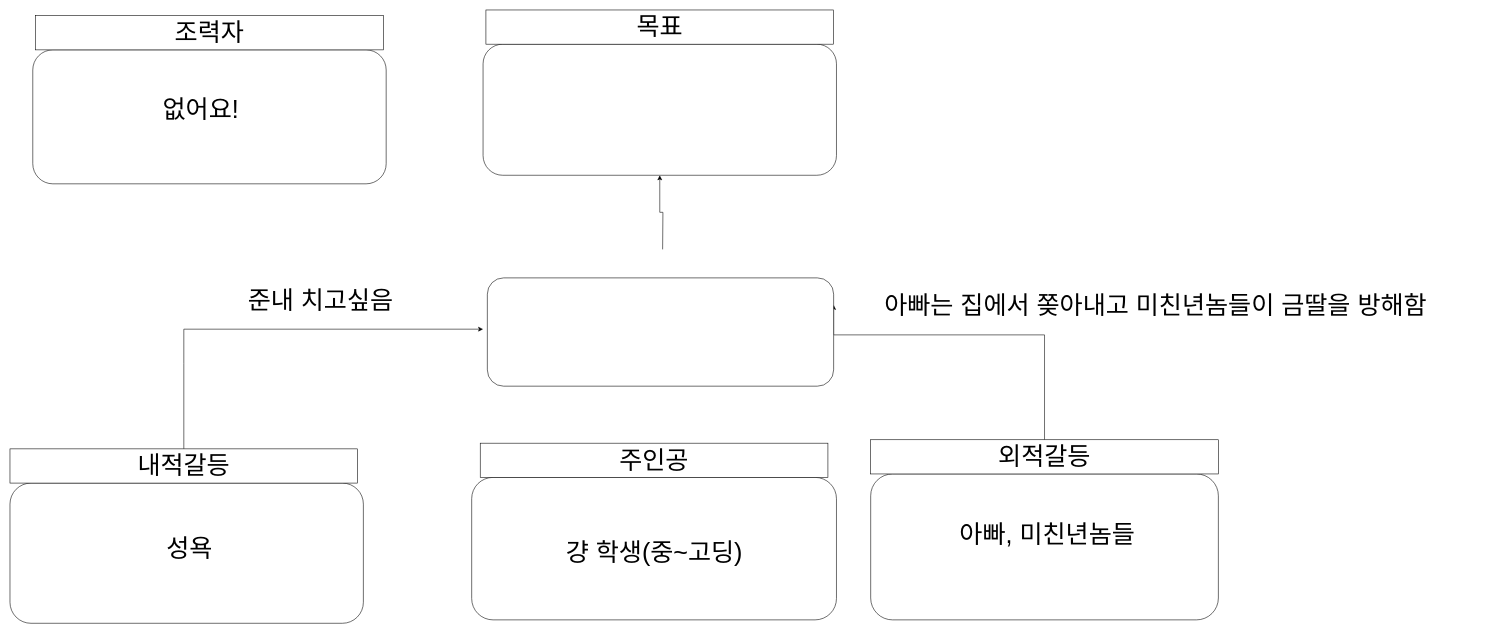
This 1485x633 diagram has some shape labels left out. Each missing label, with the box of its shape:
목표를: (487, 277, 834, 386)
일주일동안 금딸: (483, 44, 836, 175)
